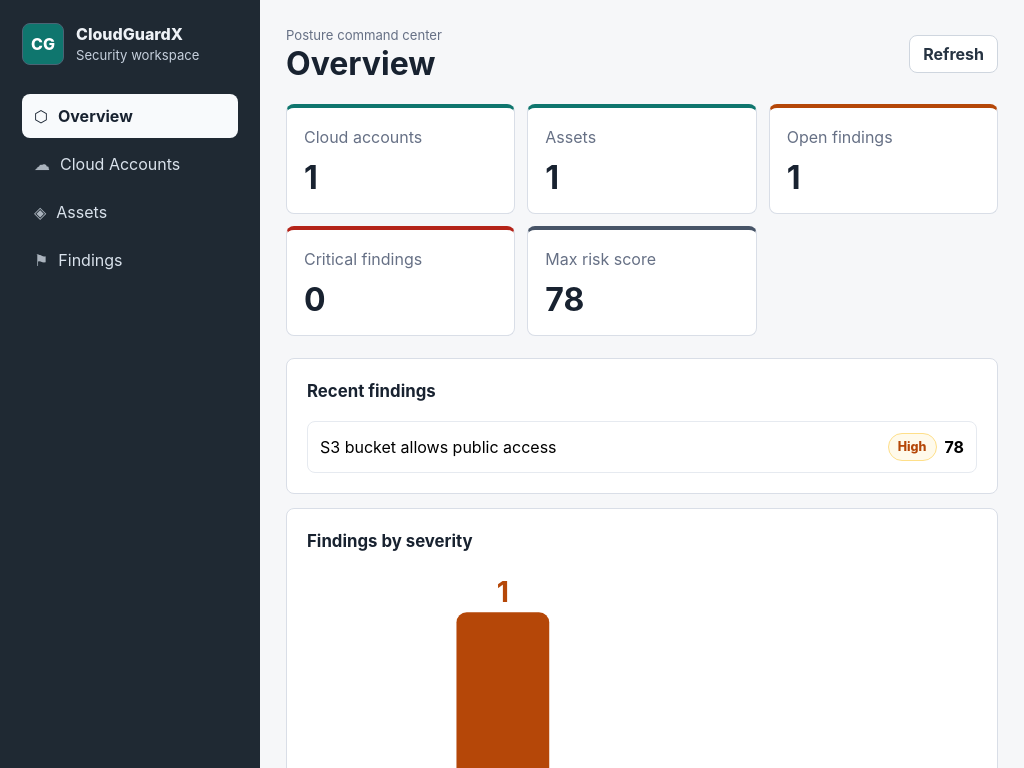
Test: App › does not leave stale detail data visible after a failed finding detail load
This screenshot has width=1024, height=768.
Click the text "S3 bucket allows public access" at (438,447), box top-left (320, 435), bottom-right (556, 459)
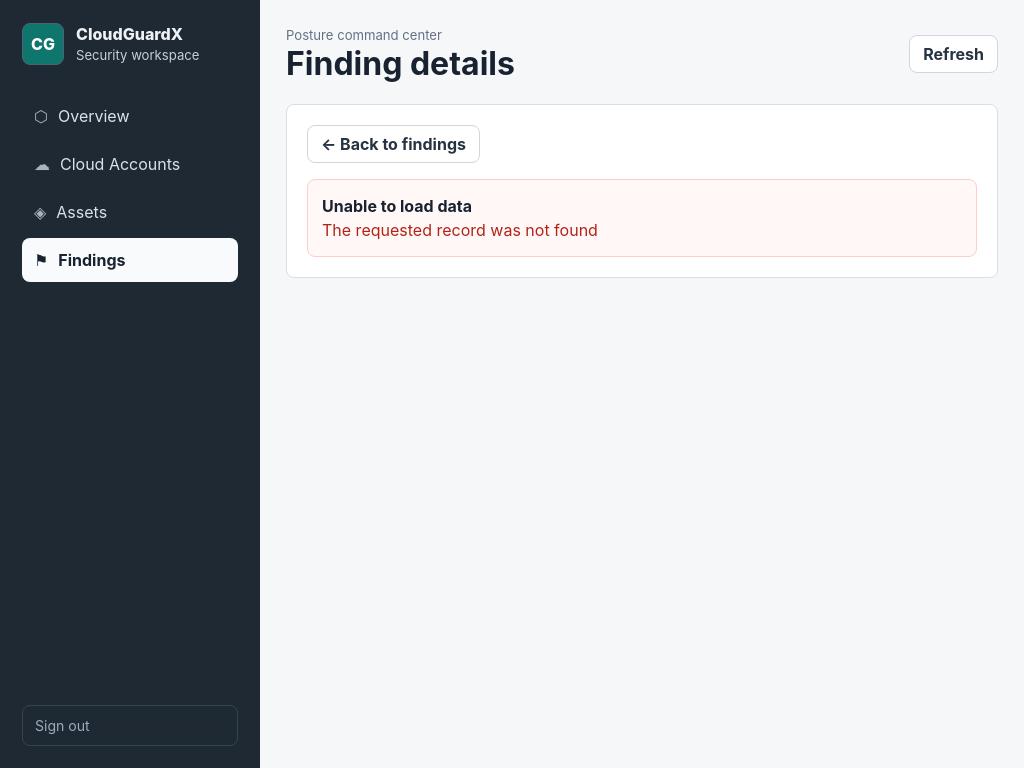
Check: the message shows "The requested record was not found", box top-left (322, 220), bottom-right (598, 240)
Check: the button "S3 bucket allows public access" is gone
